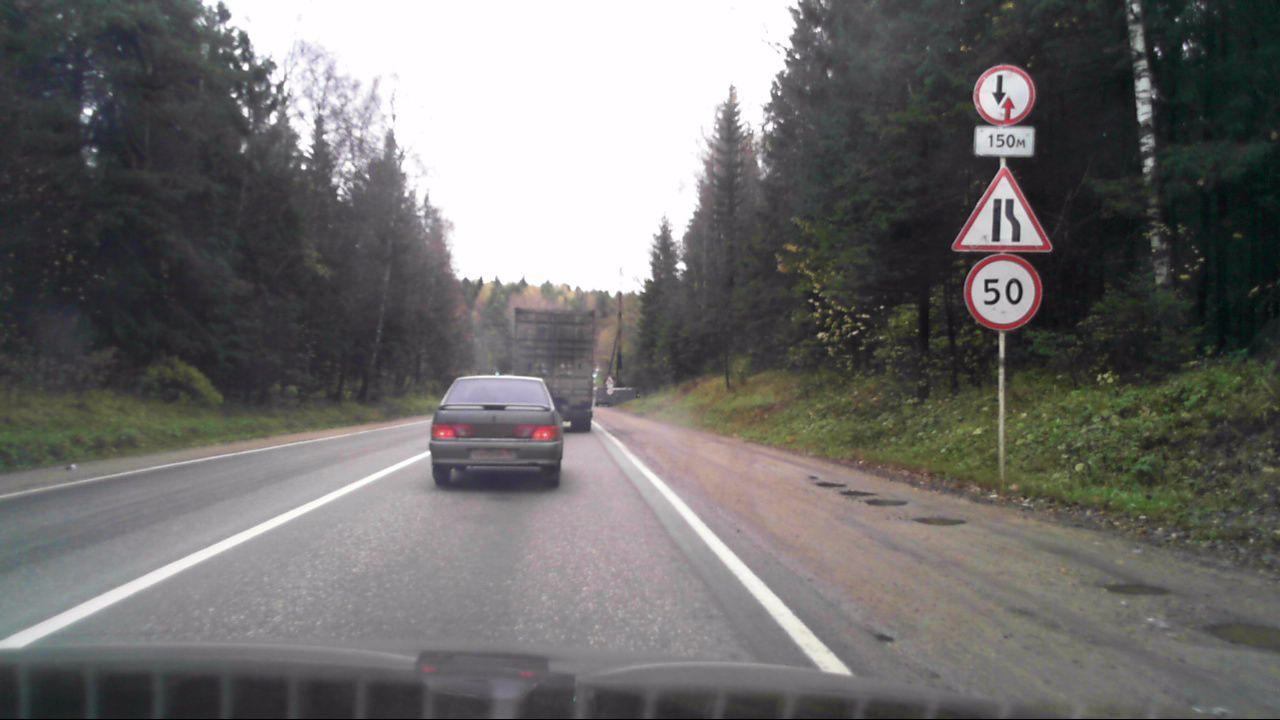1_20_2: (946, 167, 1054, 254)
2_6: (972, 63, 1035, 125)
3_24: (963, 253, 1044, 332)
8_1_1: (973, 127, 1035, 156)
